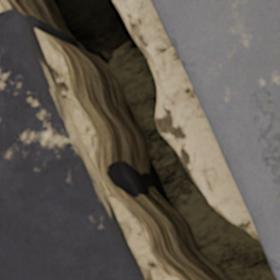brick: (0, 10, 144, 279), (151, 0, 279, 279)
crack: (0, 0, 277, 279)
